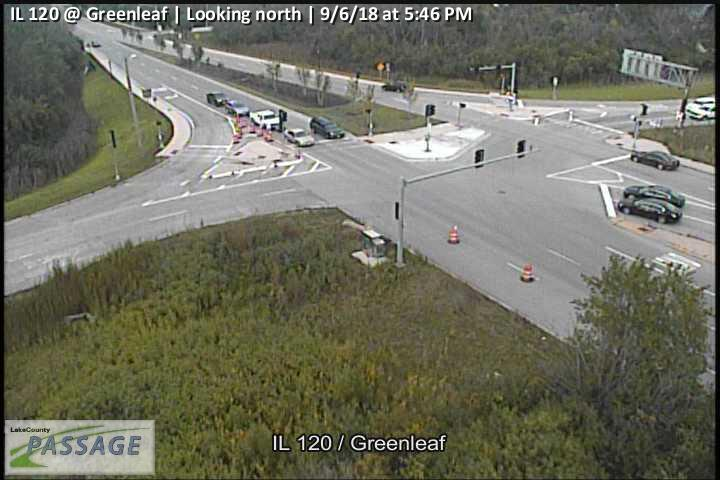SUV: (309, 115, 345, 140), (249, 108, 281, 131), (224, 98, 251, 117), (206, 90, 227, 106)
Sedan: (616, 192, 683, 224), (622, 183, 686, 208), (631, 150, 681, 170), (284, 127, 316, 147)
